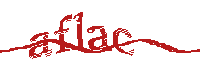a: (87, 24, 110, 52), (29, 31, 51, 58)
c: (113, 25, 134, 57)
f: (56, 13, 73, 56)
l: (74, 10, 87, 51)
